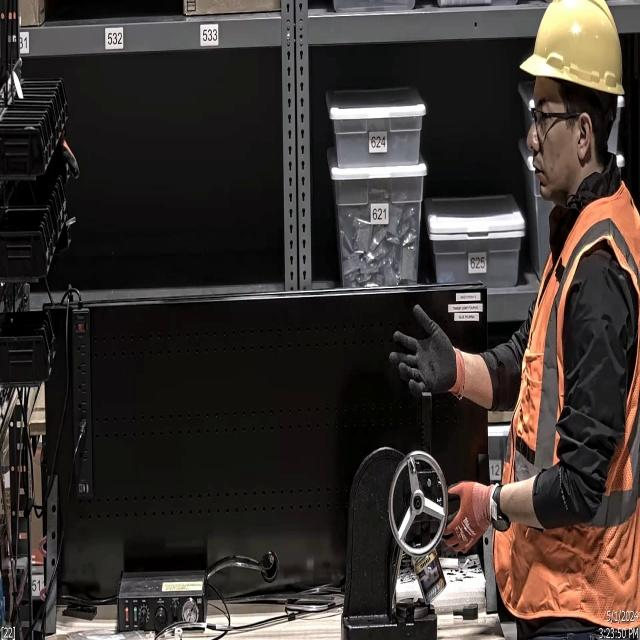gloves: (385, 304, 472, 403), (438, 476, 502, 560)
